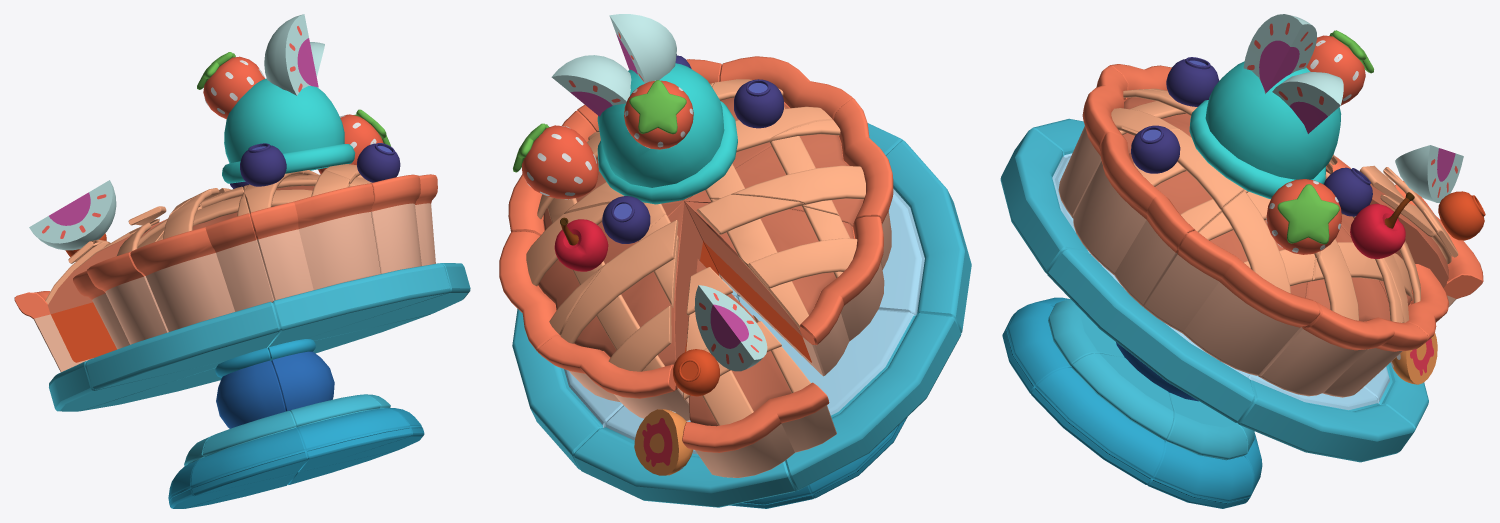
File: lvl_6.fbx
The picture shows the model from 3 angles, left to right: view 1: azimuth 30°, elevation 25°; view 2: azimuth 150°, elevation 25°; view 3: azimuth 270°, elevation 25°; orthographic projection. The views are drawn at different scales.
Parts seen in each view (by area): view 1: FruitPie_001, FruitPie_017, FruitPie_016, FruitPie_023, FruitPie_022, FruitPie_011, FruitPie_030, FruitPie_015, FruitPie_018, FruitPie_032, FruitPie_025, FruitPie_007 (+12 smaller); view 2: FruitPie_018, FruitPie_001, FruitPie_012, FruitPie_024, FruitPie_011, FruitPie_017, FruitPie_023, FruitPie_019, FruitPie_013, FruitPie_016, FruitPie_020, FruitPie_009 (+11 smaller); view 3: FruitPie_001, FruitPie_014, FruitPie_015, FruitPie_013, FruitPie_031, FruitPie_021, FruitPie_020, FruitPie_027, FruitPie_016, FruitPie_022, FruitPie_032, FruitPie_011 (+14 smaller).
Boxes of the visible parts, x1,y1,x2,y2 form: FruitPie_001: [197, 14, 355, 183]; FruitPie_017: [130, 186, 273, 331]; FruitPie_016: [243, 170, 380, 300]; FruitPie_023: [85, 302, 280, 389]; FruitPie_022: [267, 263, 450, 348]; FruitPie_011: [14, 206, 166, 372]; FruitPie_030: [191, 411, 307, 495]; FruitPie_015: [286, 164, 437, 273]; FruitPie_018: [73, 188, 221, 349]; FruitPie_032: [289, 394, 412, 472]; FruitPie_025: [215, 348, 285, 428]; FruitPie_007: [29, 180, 116, 250]; FruitPie_018: [685, 194, 884, 376]; FruitPie_001: [551, 14, 737, 204]; FruitPie_012: [537, 202, 721, 420]; FruitPie_024: [738, 296, 961, 490]; FruitPie_011: [682, 259, 836, 477]; FruitPie_017: [684, 98, 893, 269]; FruitPie_023: [739, 140, 971, 332]; FruitPie_019: [573, 297, 796, 507]; FruitPie_013: [499, 201, 683, 351]; FruitPie_016: [684, 56, 852, 200]; FruitPie_020: [512, 296, 735, 469]; FruitPie_009: [513, 123, 598, 199]; FruitPie_001: [1189, 14, 1373, 199]; FruitPie_014: [1143, 190, 1320, 375]; FruitPie_015: [1073, 129, 1248, 306]; FruitPie_013: [1258, 226, 1428, 397]; FruitPie_031: [1030, 353, 1174, 484]; FruitPie_021: [1047, 249, 1254, 422]; FruitPie_020: [1237, 374, 1414, 462]; FruitPie_027: [1147, 392, 1253, 508]; FruitPie_016: [1058, 65, 1197, 218]; FruitPie_022: [1000, 128, 1092, 273]; FruitPie_032: [1002, 299, 1124, 393]; FruitPie_011: [1359, 165, 1483, 306].
Size of the model in its own units: 9.73 by 11.21 by 9.69.
